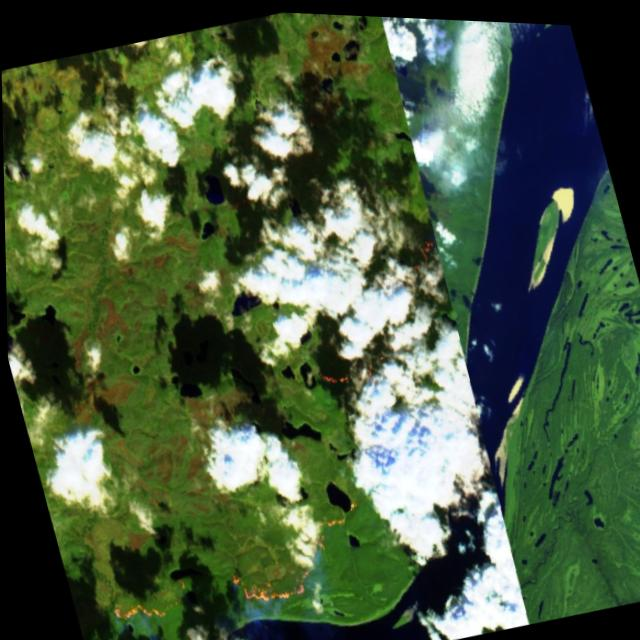fire: (206, 498, 367, 623), (295, 326, 400, 404), (98, 568, 198, 640), (392, 212, 448, 283)
